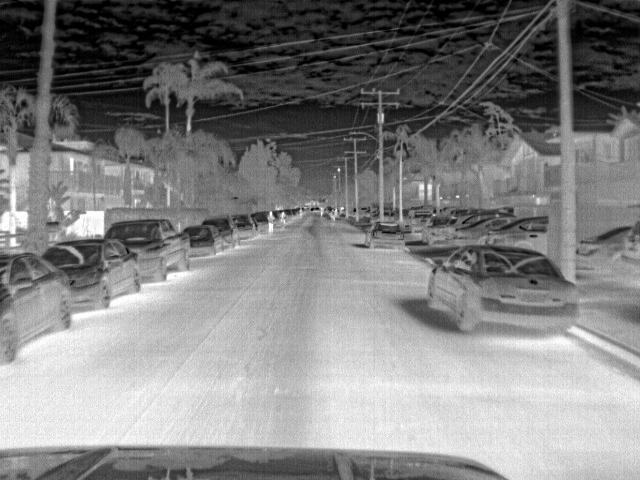car: (427, 244, 576, 336), (1, 248, 71, 364), (42, 236, 142, 315), (105, 218, 190, 284), (574, 224, 632, 273), (482, 214, 546, 246), (452, 216, 519, 244), (617, 220, 639, 290), (179, 225, 223, 252), (198, 218, 237, 246), (365, 222, 405, 248), (226, 214, 255, 238), (413, 211, 436, 230)
person: (265, 208, 277, 237)
